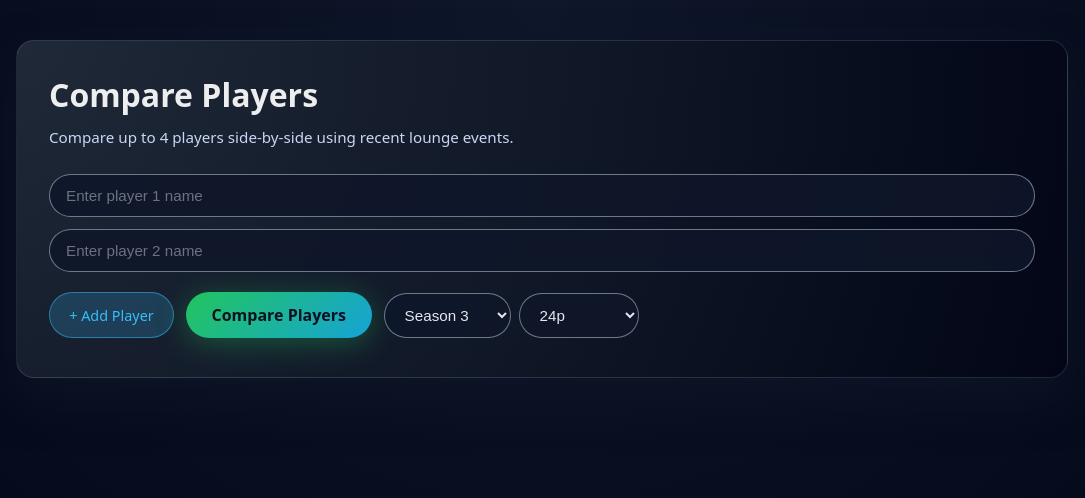
Test: PlayerComparison › names the missing players when too few are left to compare
This screenshot has width=1085, height=498.
Click the button "+ Add Player" at (111, 315), box [49,292,174,338]
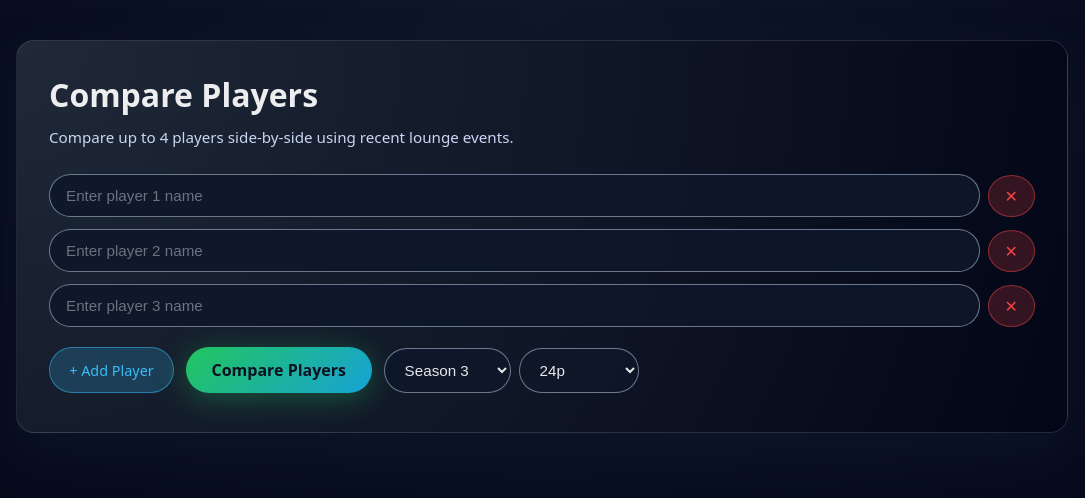
Type "Amy" into the dropdown labelled "player 1 name" at (514, 196), box [49,174,980,217]
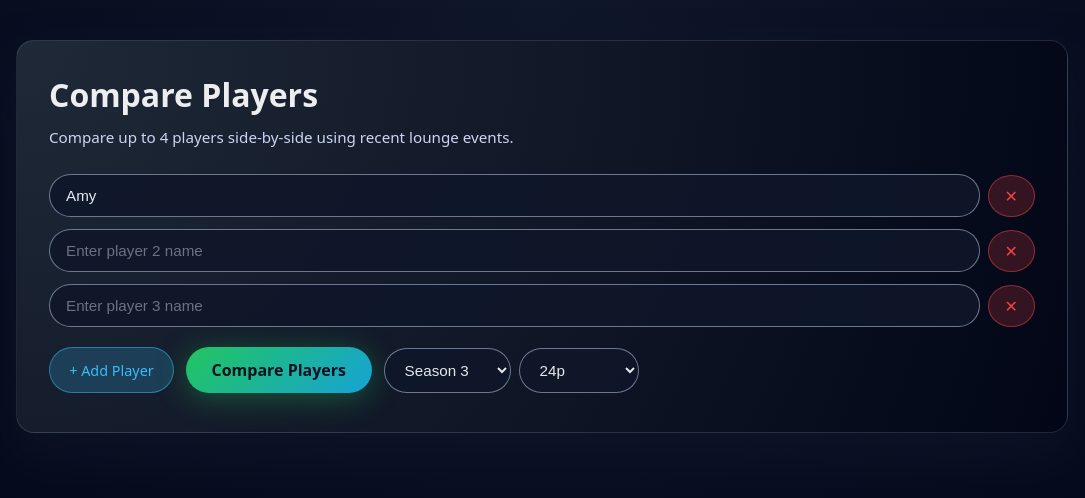
Type "Ghost" into the dropdown labelled "player 2 name" at (514, 251), box [49,229,980,272]
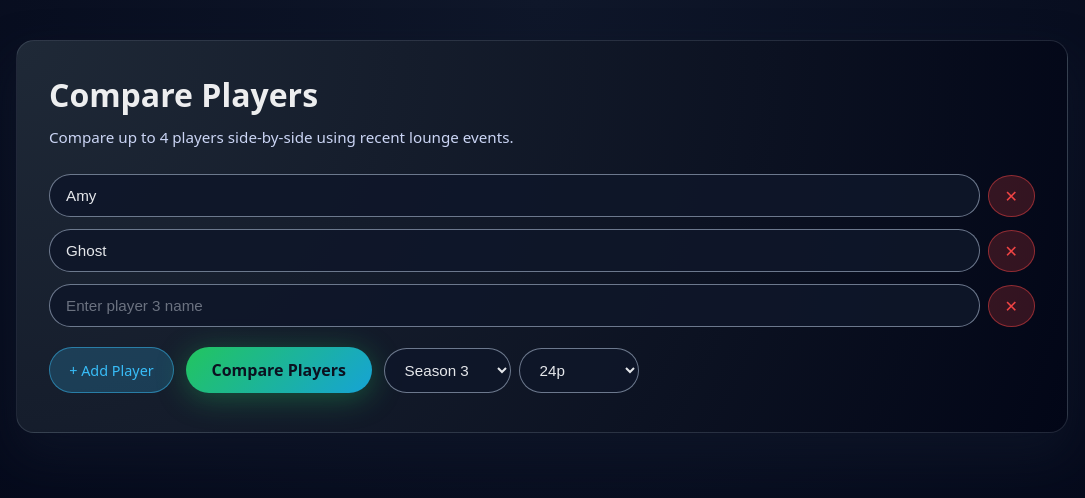
Type "Phantom" into the dropdown with placeholder "Enter player 3 name" at (514, 306), box [49,284,980,327]
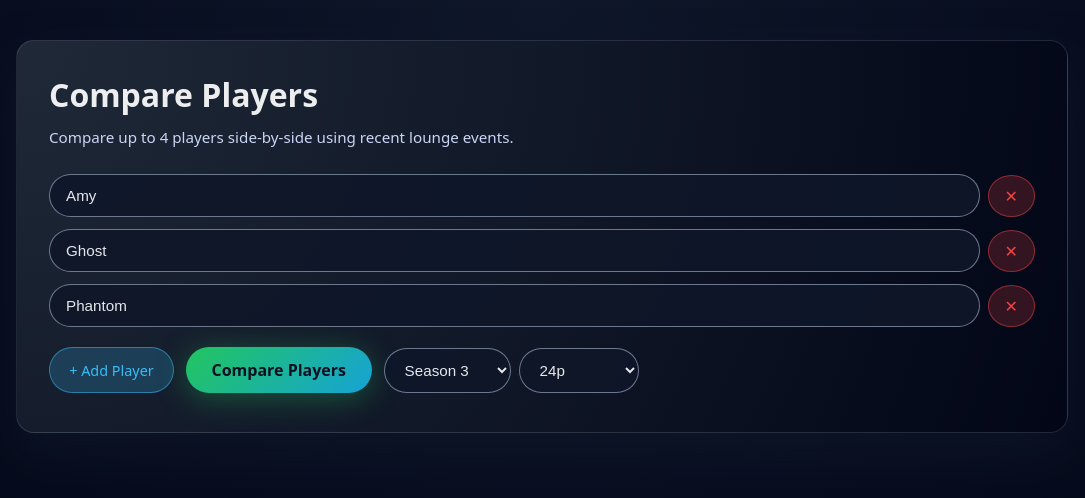
Click the button with aria-label "Compare selected players" at (279, 370), box [186,347,372,393]
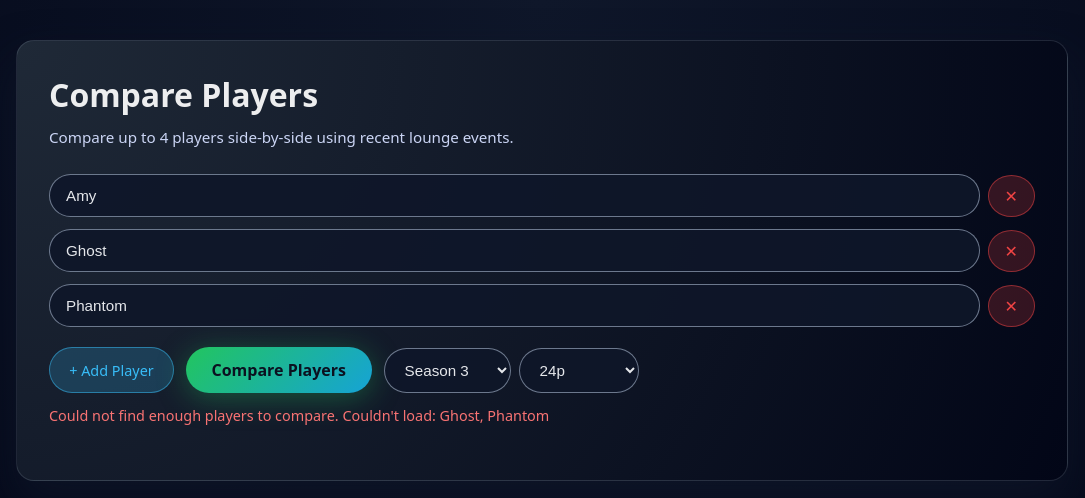
Now the message reads "Could not find enough players to compare. Couldn't load: Ghost, Phantom", box [49,406,549,425]
